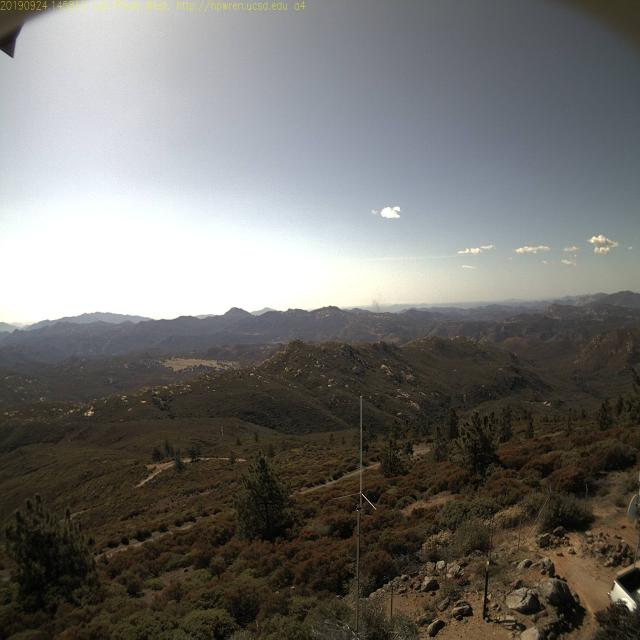smoke: (368, 296, 391, 316)
